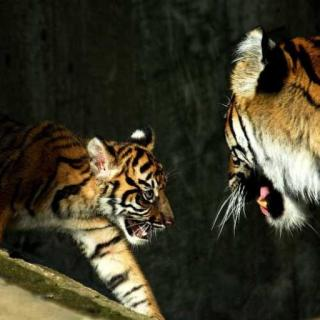Tiger: (0, 113, 203, 314), (211, 18, 320, 236)
